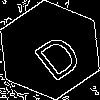D: (25, 25, 86, 83)
